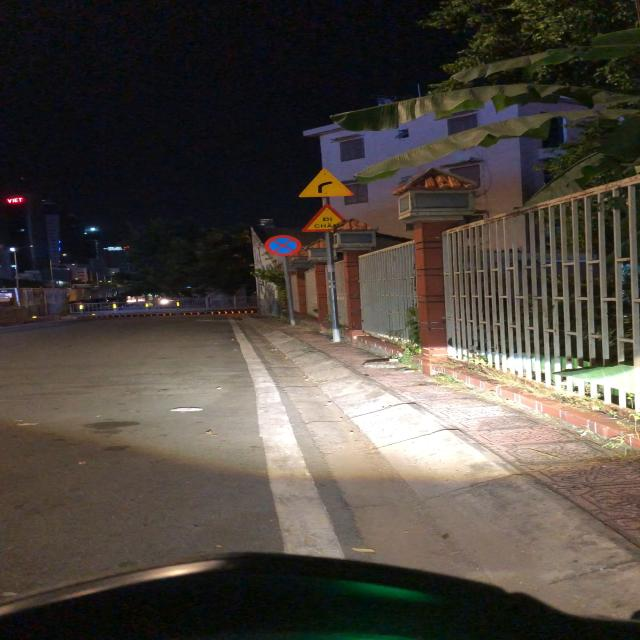Bien bao cam dung xe va do xe: (264, 235, 303, 257)
Bien bao cho ngoat nguy hiem: (296, 168, 357, 198)
Bien bao di cham: (298, 203, 350, 233)
